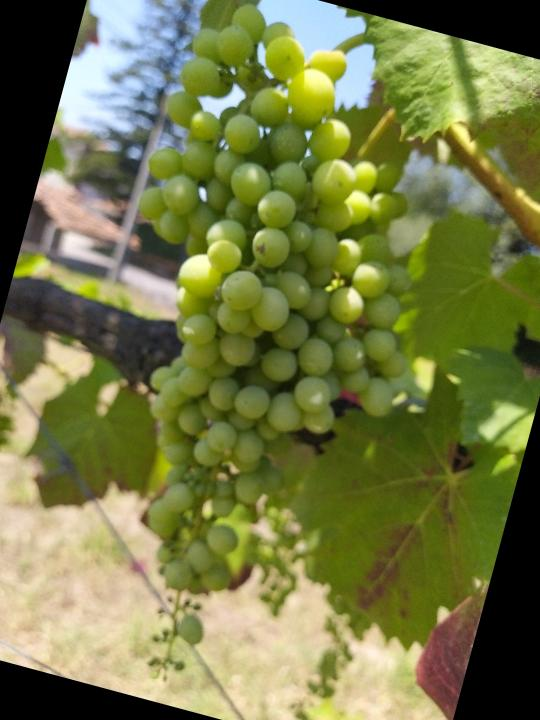grape: (13, 0, 487, 720)
